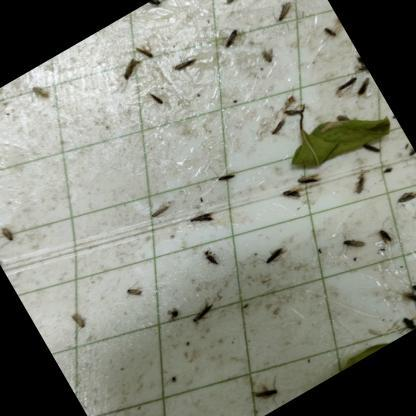prays_oleae: (257, 232, 303, 282), (332, 223, 374, 271), (245, 367, 286, 412), (61, 299, 100, 346), (168, 47, 204, 84), (186, 202, 223, 238), (214, 18, 249, 56), (326, 68, 362, 102), (342, 166, 375, 202), (114, 54, 148, 88), (132, 35, 162, 71), (199, 242, 229, 278), (182, 298, 218, 328), (150, 198, 183, 230), (210, 158, 240, 190), (264, 110, 294, 141), (391, 182, 416, 218), (372, 220, 399, 252), (30, 74, 56, 103), (0, 217, 22, 251), (298, 172, 326, 198), (320, 18, 344, 48), (398, 278, 416, 315), (280, 186, 304, 210), (145, 0, 176, 18), (214, 0, 247, 15), (354, 73, 376, 94), (330, 9, 345, 32), (408, 270, 416, 306), (404, 142, 416, 154)
